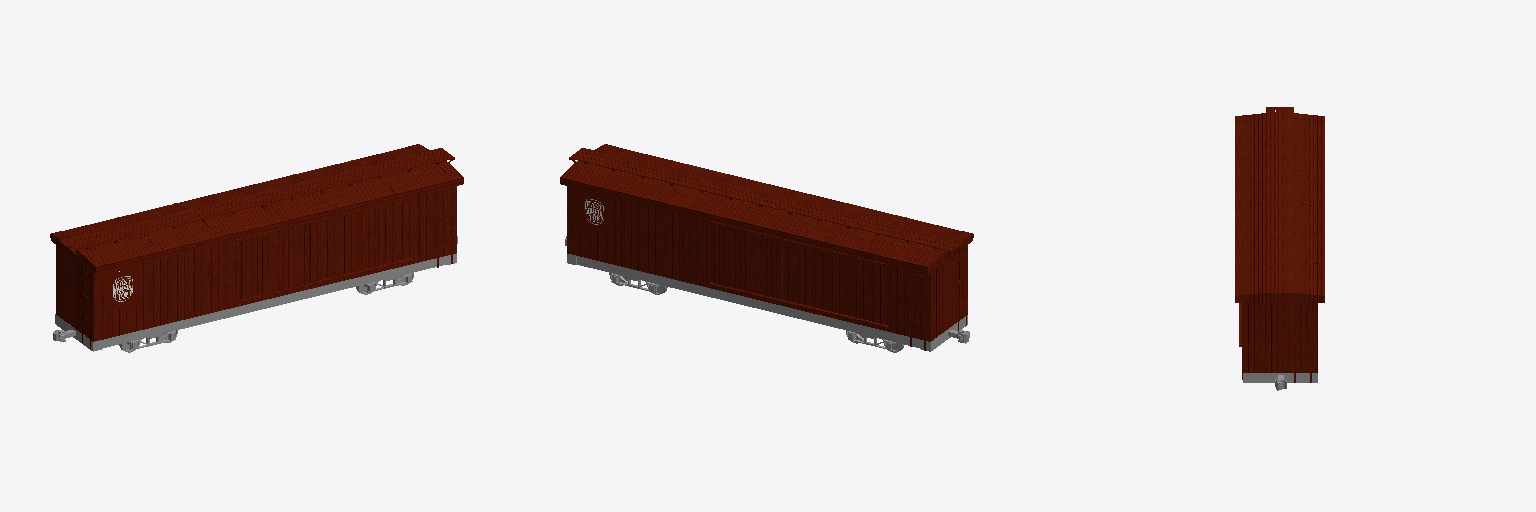
3 views of the same model, side by side, from view 1: azimuth 30°, elevation 25°; view 2: azimuth 150°, elevation 25°; view 3: azimuth 270°, elevation 25° (orthographic).
Parts seen in each view (by area): view 1: SHELL_Cube.523_SHELL_Cube.584, SHELL_Cube.042_SHELL_Cube.000, Cube.002, FRAME_Sphere.004_Sphere.002_Sphere.004_Sphere.010, Cube.001, Cube.009_Cube.010, Cube.005; view 2: SHELL_Cube.523_SHELL_Cube.584, SHELL_Cube.042_SHELL_Cube.014, Cube.003, FRAME_Sphere.004_Sphere.002_Sphere.004_Sphere.011, Cube.001, Cube_Cube.009, Cube.006; view 3: SHELL_Cube.523_SHELL_Cube.584, Cube.007, FRAME_Sphere.004_Sphere.002_Sphere.004_Sphere.013.
Boxes of the visible parts, box(x1,y1,x2,y2) form: SHELL_Cube.523_SHELL_Cube.584: box(50, 144, 463, 273); SHELL_Cube.042_SHELL_Cube.000: box(93, 186, 456, 341); Cube.002: box(241, 225, 309, 299); FRAME_Sphere.004_Sphere.002_Sphere.004_Sphere.010: box(102, 257, 446, 348); Cube.001: box(56, 245, 92, 340); Cube.009_Cube.010: box(104, 266, 140, 313); Cube.005: box(235, 258, 413, 304); SHELL_Cube.523_SHELL_Cube.584: box(560, 144, 973, 273); SHELL_Cube.042_SHELL_Cube.014: box(567, 186, 929, 341); Cube.003: box(714, 225, 782, 299); FRAME_Sphere.004_Sphere.002_Sphere.004_Sphere.011: box(577, 257, 920, 348); Cube.001: box(930, 245, 967, 341); Cube_Cube.009: box(575, 189, 611, 235); Cube.006: box(709, 282, 887, 328); SHELL_Cube.523_SHELL_Cube.584: box(1235, 107, 1324, 302); Cube.007: box(1243, 303, 1317, 372); FRAME_Sphere.004_Sphere.002_Sphere.004_Sphere.013: box(1243, 374, 1317, 382).
Size of the model in its own units: 18.14 by 4.86 by 3.55.
Materials: 12 (3 with a texture image).